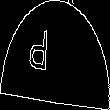P_S: (44, 28, 66, 82)
